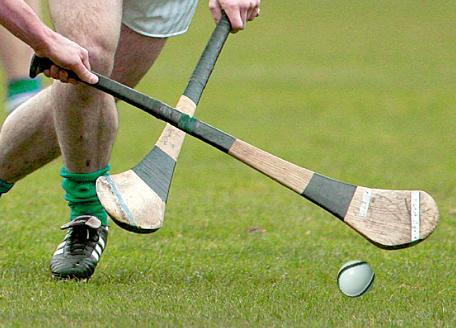hurley: (27, 55, 441, 250), (93, 2, 244, 236)
